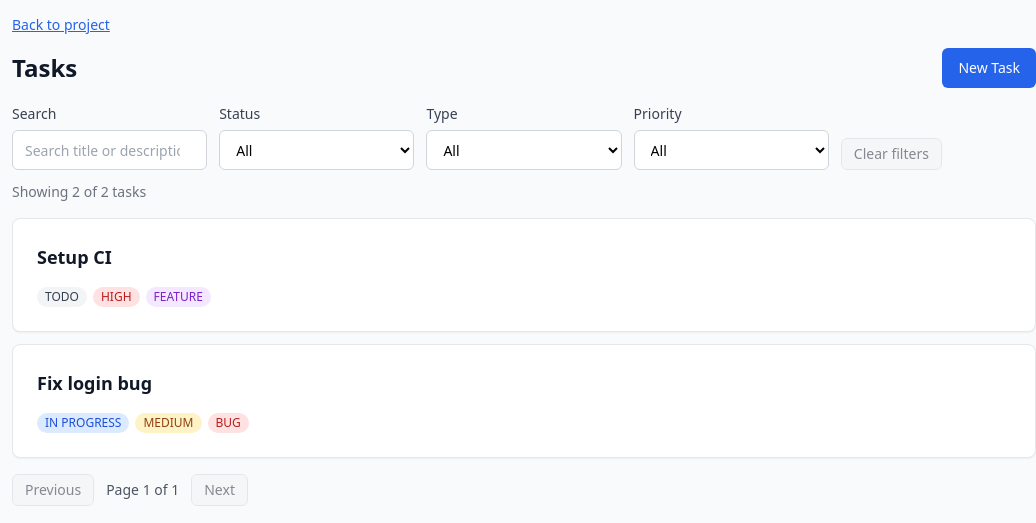
Scenario: Task list search and filters (behavior) › filters by status select (behavior)
Expected: the link "Fix login bug" is shown, [37,371,152,395]
Select "TODO" in the dropdown labelled "Status" at (317, 150), box [219,130,414,170]
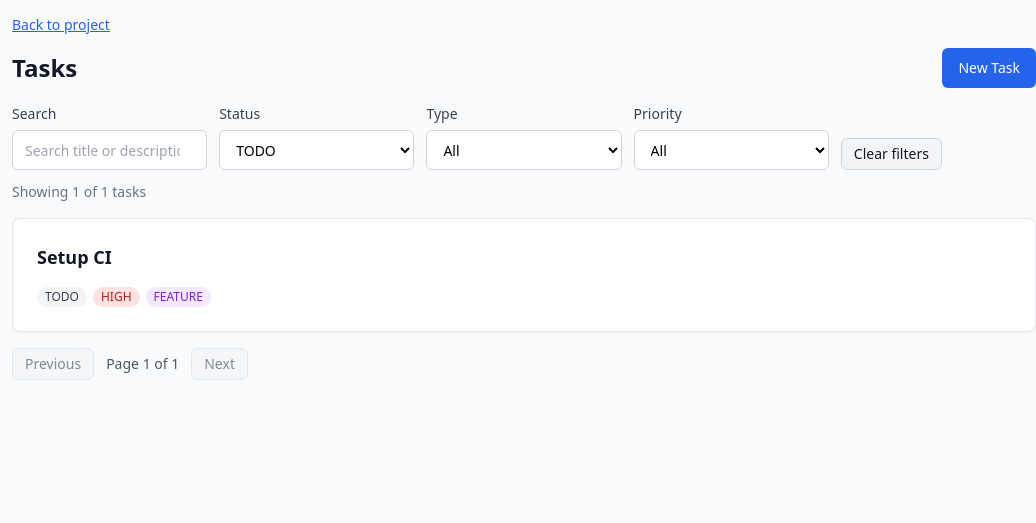
Expected: the link "Setup CI" is shown, [37,245,112,269]
Now the link "Fix login bug" is gone
